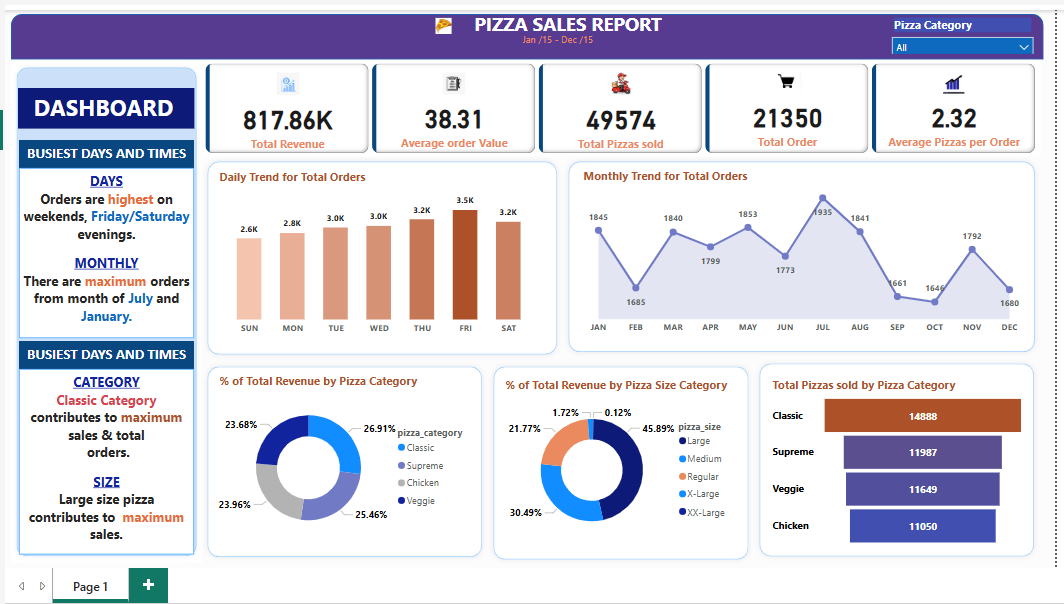

The page's visual inventory and layout, read from the dashboard file:
{"tool":"powerbi","page":{"name":"Page 1","canvas":[1500,820],"ordinal":0},"visuals":[{"type":"cardVisual","fields":{"Data":["pizza_sales.Total Revenue","pizza_sales.Average order Value","pizza_sales.Total Pizzas sold","pizza_sales.Total Order","pizza_sales.Average Pizzas per Order"]},"box":[281.7,75,1198.3,138.3],"z":0},{"type":"shape","box":[8.3,10,1475,65],"z":1000},{"type":"textbox","box":[643.8,0,320,55],"z":2000},{"type":"image","box":[610,8.9,33.3,37.8],"z":3000},{"type":"textbox","box":[733.8,32.5,125,32.5],"z":4000},{"type":"shape","box":[281.7,213.3,515,291.7],"z":5000},{"type":"columnChart","title":"Daily Trend for Total Orders","fields":{"Category":["pizza_sales.Order day"],"Y":["pizza_sales.Total Order"]},"box":[301.7,231.7,466.7,245],"z":6000},{"type":"columnChart","title":"Monthly Trend for Total Orders","fields":{"Y":["pizza_sales.Total Order"]},"box":[903.1,229.7,539.4,250.6],"z":7000},{"type":"shape","box":[796.7,213.3,681.7,288.3],"z":8000},{"type":"areaChart","title":" Monthly Trend for Total Orders","fields":{"Category":["pizza_sales.Month order day"],"Y":["pizza_sales.Total Order"]},"box":[821.7,230,640,245],"z":9000},{"type":"shape","box":[281.7,505,408.3,288.3],"z":10000},{"type":"shape","box":[690,505,380,291.7],"z":11000},{"type":"shape","box":[1070,501.7,408.3,291.7],"z":12000},{"type":"donutChart","title":"% of Total Revenue by Pizza Category","fields":{"Category":["pizza_sales.pizza_category"],"Y":["pizza_sales.Total Revenue"]},"box":[301.7,523.3,373.3,250],"z":13000},{"type":"donutChart","title":"% of Total Revenue by Pizza Size Category","fields":{"Category":["pizza_sales.pizza_size"],"Y":["pizza_sales.Total Revenue"]},"box":[710,528.3,336.7,245],"z":14000},{"type":"funnel","title":"Total Pizzas sold by Pizza Category","fields":{"Category":["pizza_sales.pizza_category"],"Y":["pizza_sales.Total Pizzas sold"]},"box":[1091.7,528.3,370,246.7],"z":15000},{"type":"textbox","box":[25,266.7,250,40],"z":16000},{"type":"shape","box":[8.3,78.3,273.3,715],"z":17000},{"type":"textbox","box":[20,190,250,40],"z":18000},{"type":"textbox","box":[20,230,250,243.3],"z":19000},{"type":"textbox","box":[20,476.7,250,40],"z":20000},{"type":"textbox","box":[20,516.7,250,265],"z":21000},{"type":"slicer","fields":{"Values":["pizza_sales.pizza_category"]},"box":[1256.7,10,221.7,56.7],"z":21001},{"type":"textbox","box":[18.3,115,251.7,58.3],"z":21002}]}

Visuals, with their boxes on the page's 1500x820 design canvas (x1, y1, x2, y2). These are canvas units, not pixel positions in the 1064x604 screenshot, which may show the page scaled, cropped or inside an application window:
cardVisual - pizza_sales.Total Revenue x pizza_sales.Average order Value: [x1=282, y1=75, x2=1480, y2=213]
shape: [x1=8, y1=10, x2=1483, y2=75]
textbox: [x1=644, y1=0, x2=964, y2=55]
image: [x1=610, y1=9, x2=643, y2=47]
textbox: [x1=734, y1=32, x2=859, y2=65]
shape: [x1=282, y1=213, x2=797, y2=505]
"Daily Trend for Total Orders" columnChart: [x1=302, y1=232, x2=768, y2=477]
"Monthly Trend for Total Orders" columnChart: [x1=903, y1=230, x2=1442, y2=480]
shape: [x1=797, y1=213, x2=1478, y2=502]
" Monthly Trend for Total Orders" areaChart: [x1=822, y1=230, x2=1462, y2=475]
shape: [x1=282, y1=505, x2=690, y2=793]
shape: [x1=690, y1=505, x2=1070, y2=797]
shape: [x1=1070, y1=502, x2=1478, y2=793]
"% of Total Revenue by Pizza Category" donutChart: [x1=302, y1=523, x2=675, y2=773]
"% of Total Revenue by Pizza Size Category" donutChart: [x1=710, y1=528, x2=1047, y2=773]
"Total Pizzas sold by Pizza Category" funnel: [x1=1092, y1=528, x2=1462, y2=775]
textbox: [x1=25, y1=267, x2=275, y2=307]
shape: [x1=8, y1=78, x2=282, y2=793]
textbox: [x1=20, y1=190, x2=270, y2=230]
textbox: [x1=20, y1=230, x2=270, y2=473]
textbox: [x1=20, y1=477, x2=270, y2=517]
textbox: [x1=20, y1=517, x2=270, y2=782]
slicer - pizza_sales.pizza_category: [x1=1257, y1=10, x2=1478, y2=67]
textbox: [x1=18, y1=115, x2=270, y2=173]
